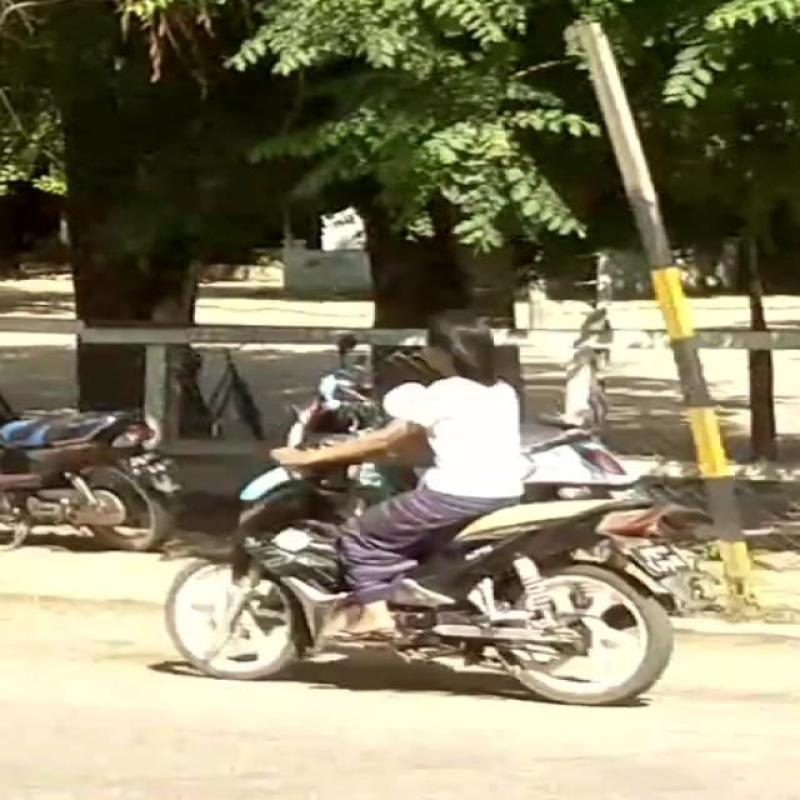nohelmet: (398, 302, 546, 398)
